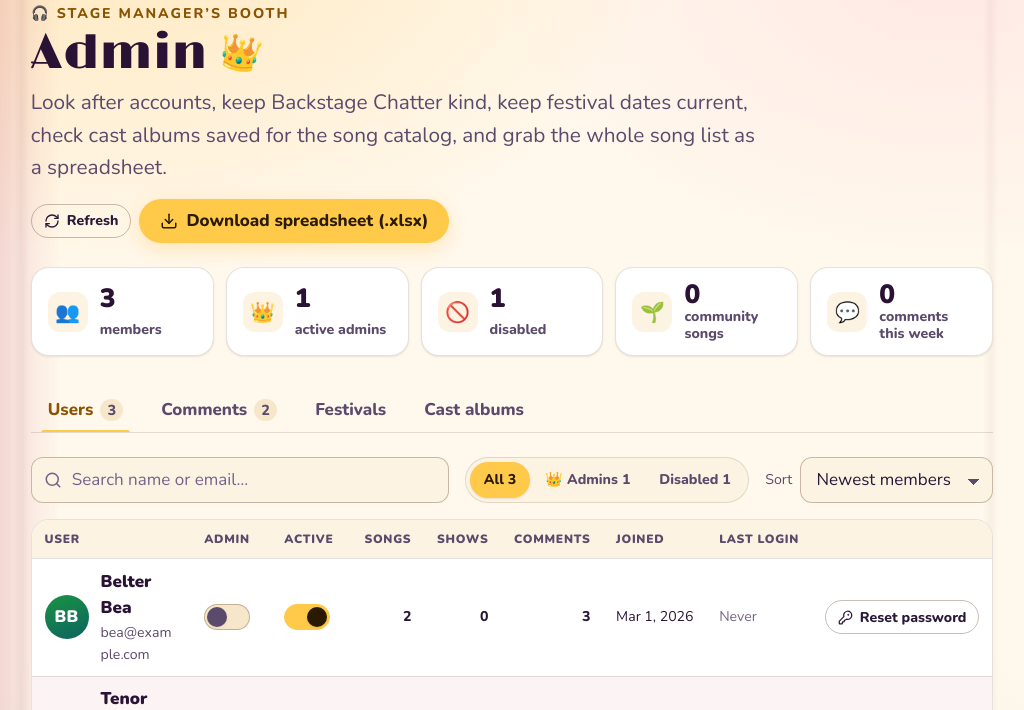
Test case: AdminPage › resets a password and shows the temporary password once with a copy button
Click the button with test id "reset-password" in the row of "BB" at coordinates (902, 617), box [825,600,980,634]
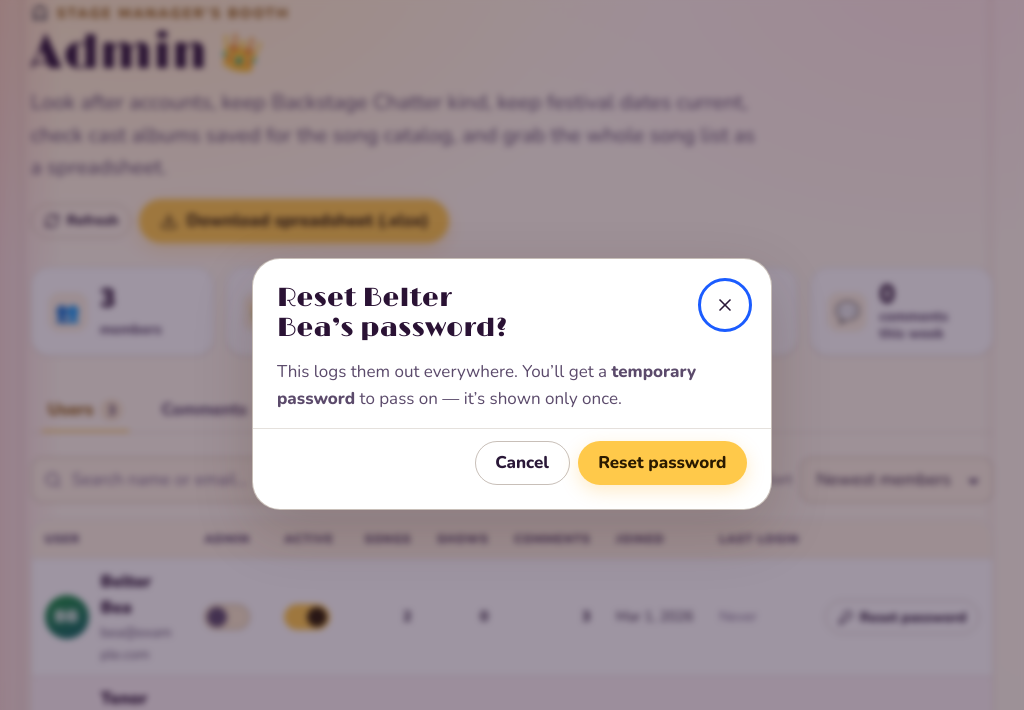
Click the button with test id "confirm-button" at coordinates (662, 463), box [578,441,747,485]
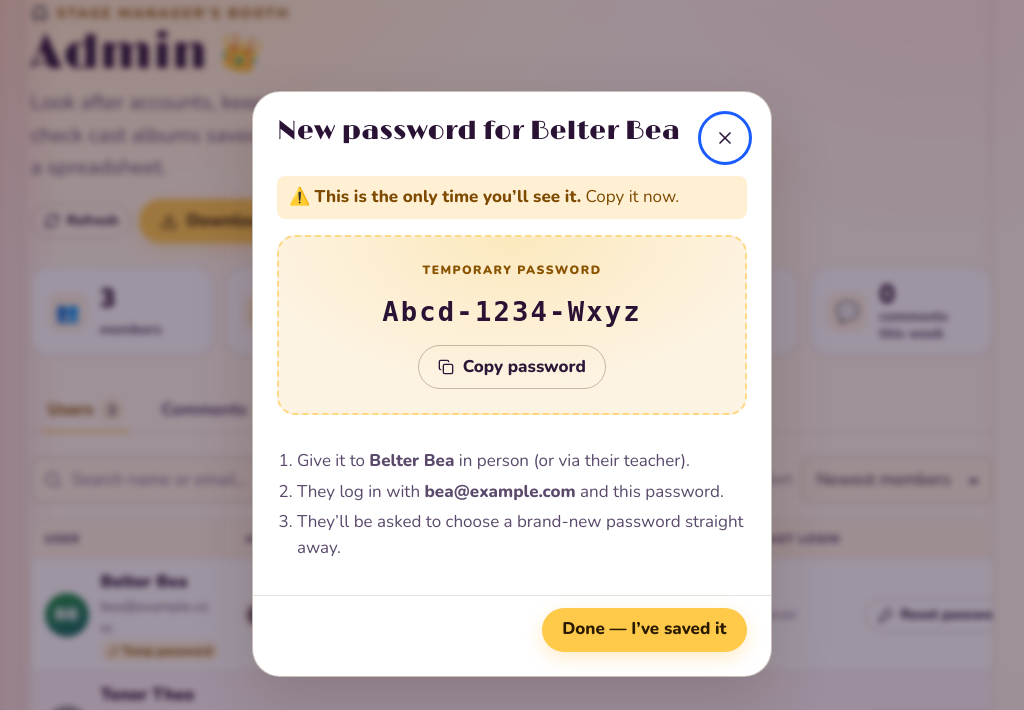
Expected: the text with test id "temp-password" reads "Abcd-1234-Wxyz", [382,296,642,327]
Expected: the dialog with test id "temp-password-modal" shows "only time you’ll see it", [314,185,581,208]
Expected: the button with test id "copy-temp-password" is shown, [418,345,606,389]
Click the button with test id "temp-password-done" at coordinates (644, 630), box [542,608,747,652]
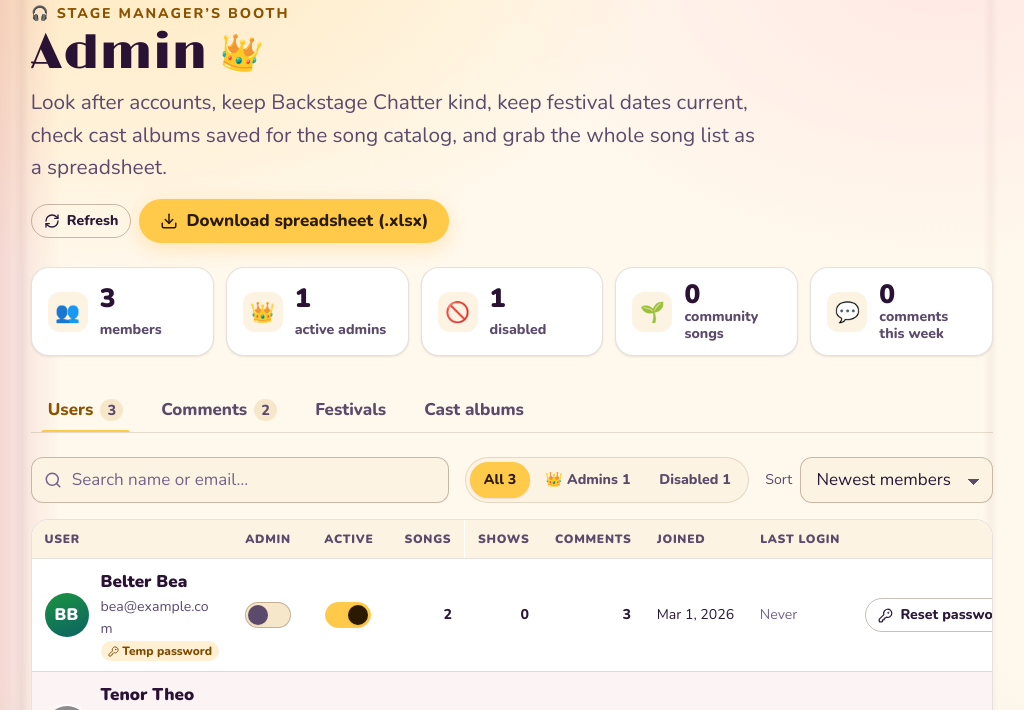
Expected: the text with test id "temp-password" is gone
